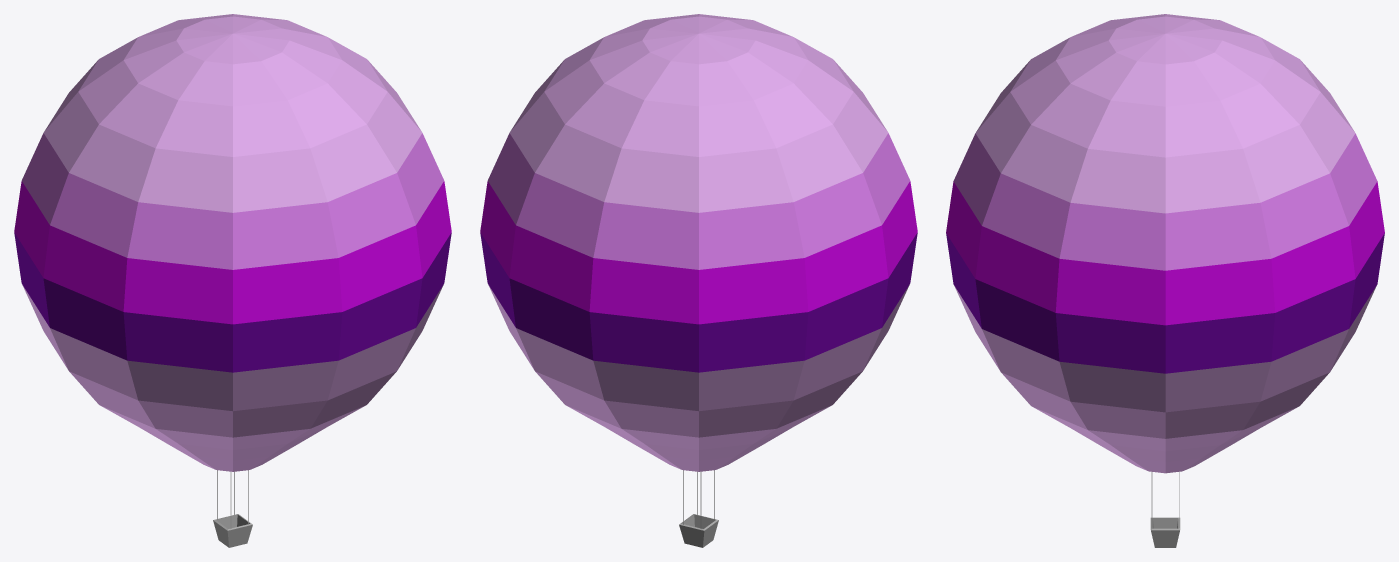
Rendered from E_Balloon02.fbx.
3 views of the same model, side by side, from view 1: azimuth 30°, elevation 25°; view 2: azimuth 150°, elevation 25°; view 3: azimuth 270°, elevation 25° (orthographic).
Parts seen in each view (by area): view 1: e_hp_hab_02; view 2: e_hp_hab_02; view 3: e_hp_hab_02.
Part boxes in pixels (x1,y1,x2,y2): e_hp_hab_02: [14, 14, 451, 547]; e_hp_hab_02: [480, 14, 917, 547]; e_hp_hab_02: [946, 14, 1384, 547].
Size of the model in its own units: 2800 by 3588 by 2800.
